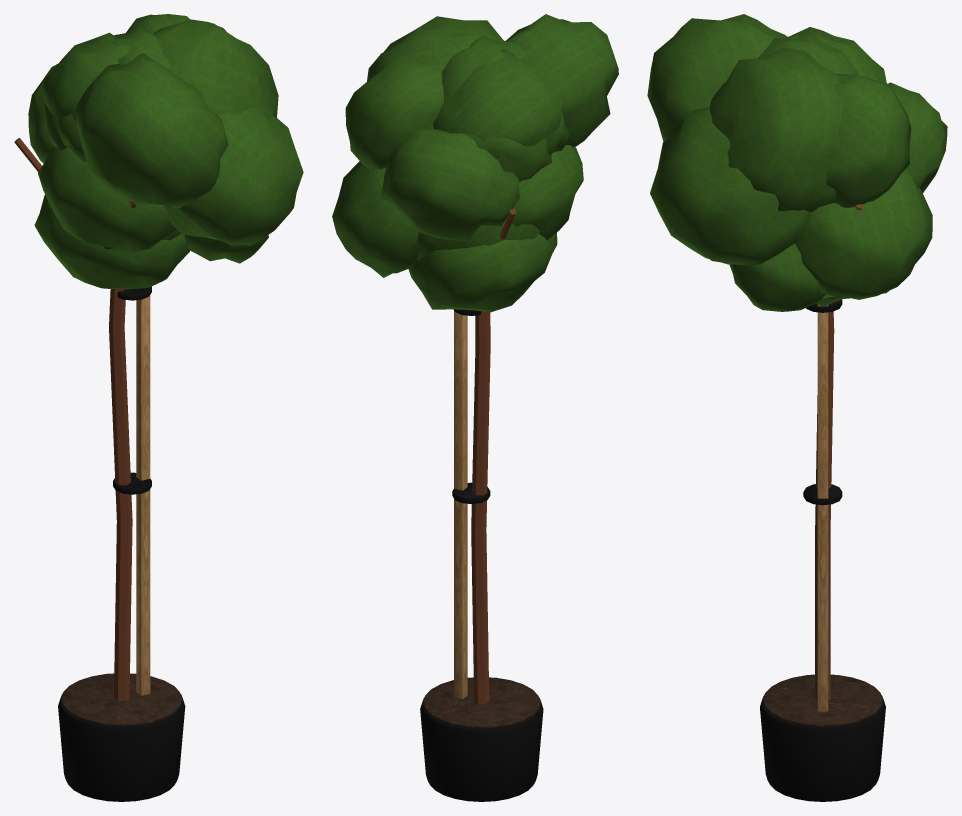
File: PAV-PAI-004_anim.glb
3 renders of one model, left to right at view 1: azimuth 30°, elevation 25°; view 2: azimuth 150°, elevation 25°; view 3: azimuth 270°, elevation 25°, orthographic. The views are drawn at different scales.
Parts seen in each view (by area): view 1: PAV-PAI-004_anim0; view 2: PAV-PAI-004_anim0; view 3: PAV-PAI-004_anim0.
Part boxes in pixels (bbox=[...]): PAV-PAI-004_anim0: bbox=[14, 14, 303, 801]; PAV-PAI-004_anim0: bbox=[332, 14, 618, 801]; PAV-PAI-004_anim0: bbox=[647, 14, 947, 801].
Size of the model in its own units: 0.6834 by 2.35 by 0.8485.
6 materials, 6 textured.
